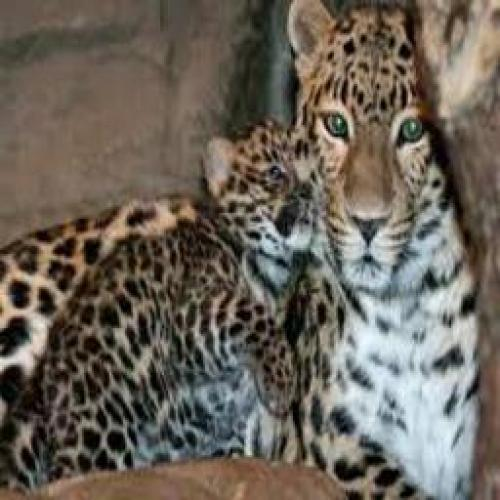amur_leopard-endangered: (39, 123, 312, 473), (283, 6, 469, 488)
